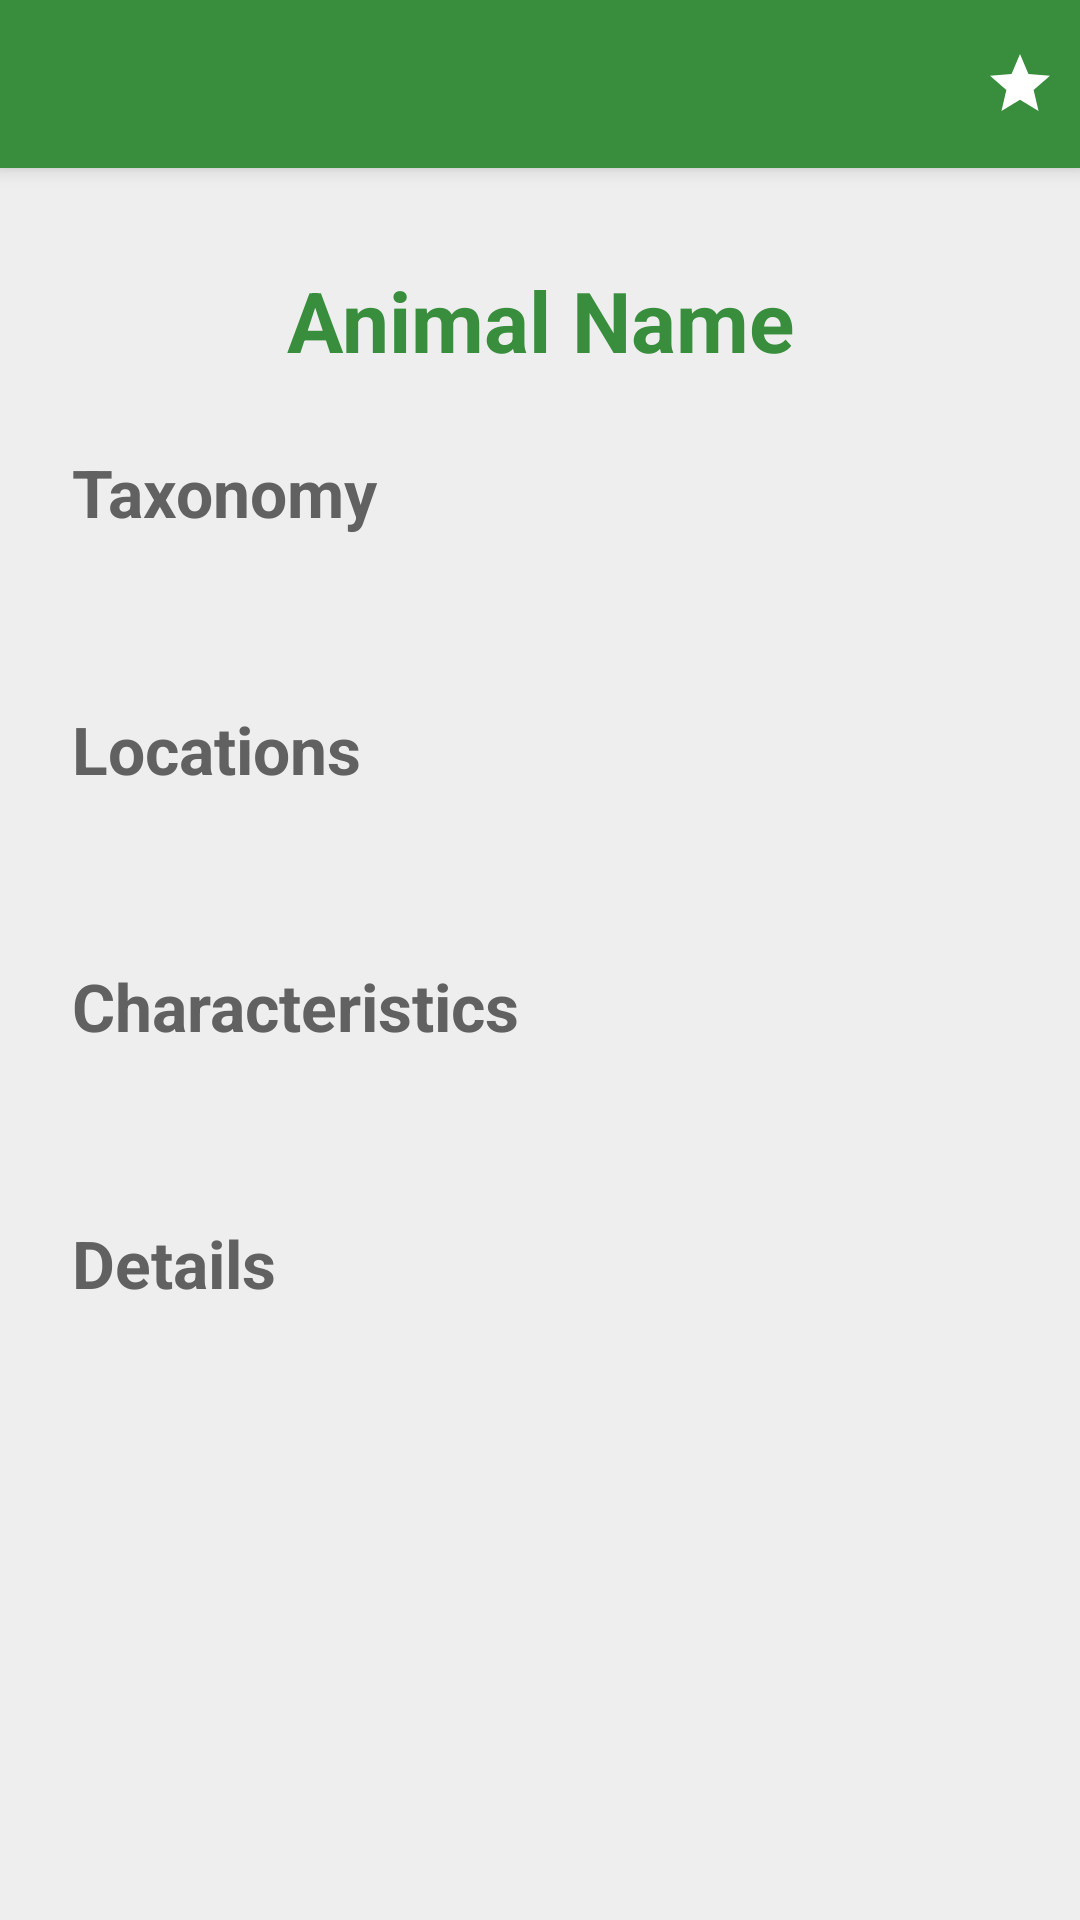

Icon bounding boxes for this 1080*1920 phone screenshot, format BBox(x1, y1, x2, y2):
Marcar como favorito: BBox(990, 54, 1050, 111)
